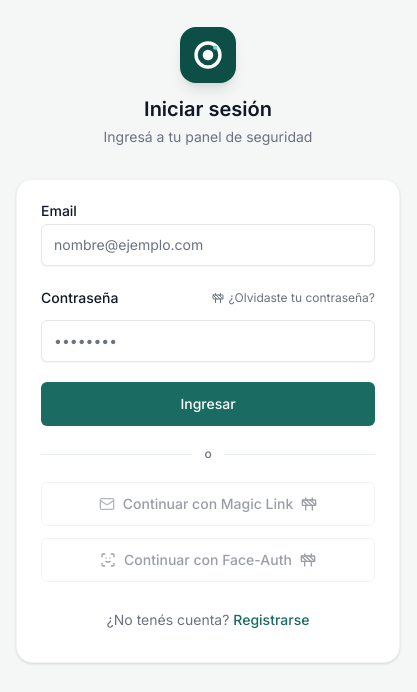
Scenario: LoginPage › rejects a malformed email but accepts the password
Type "not-an-email" into the field labelled "Email". click: x=208, y=245
box: left=41, top=224, right=375, bottom=266
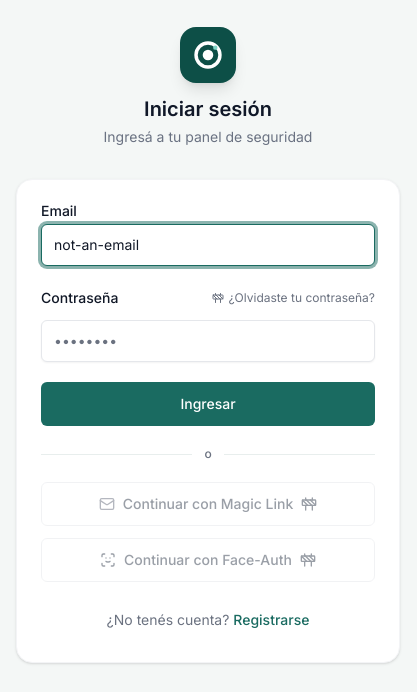
Type "hunter2" into the password field labelled "Contraseña". click: x=208, y=341
box: left=41, top=320, right=375, bottom=362
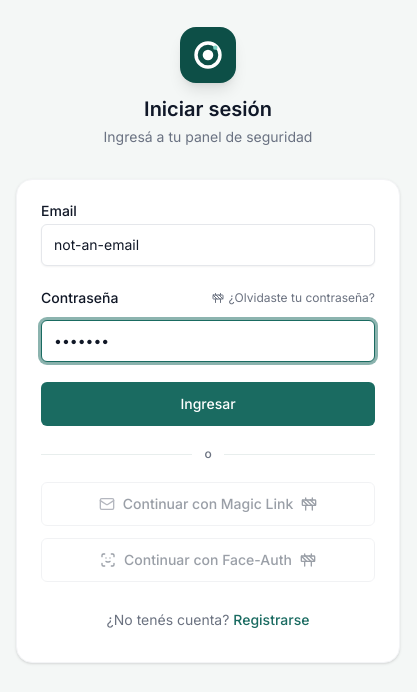
Click the button "Ingresar". click: x=208, y=404
box: left=41, top=382, right=375, bottom=426
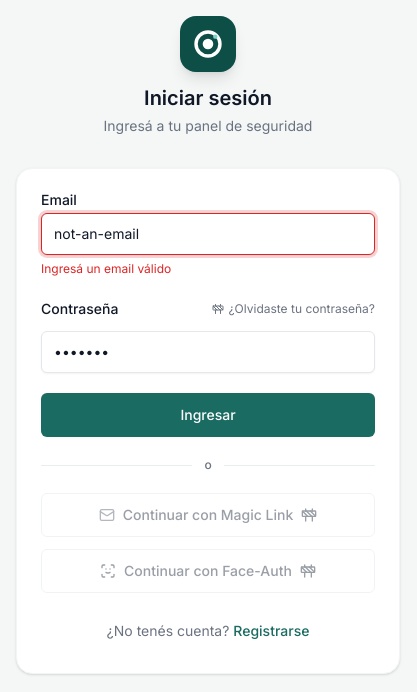
Result: the text "Ingresá un email válido" is shown at left=41, top=261, right=171, bottom=276
